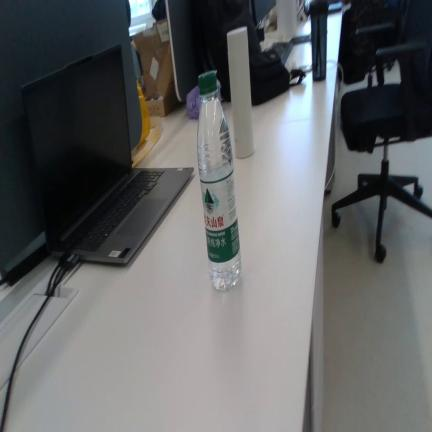bottle: (197, 70, 241, 290)
